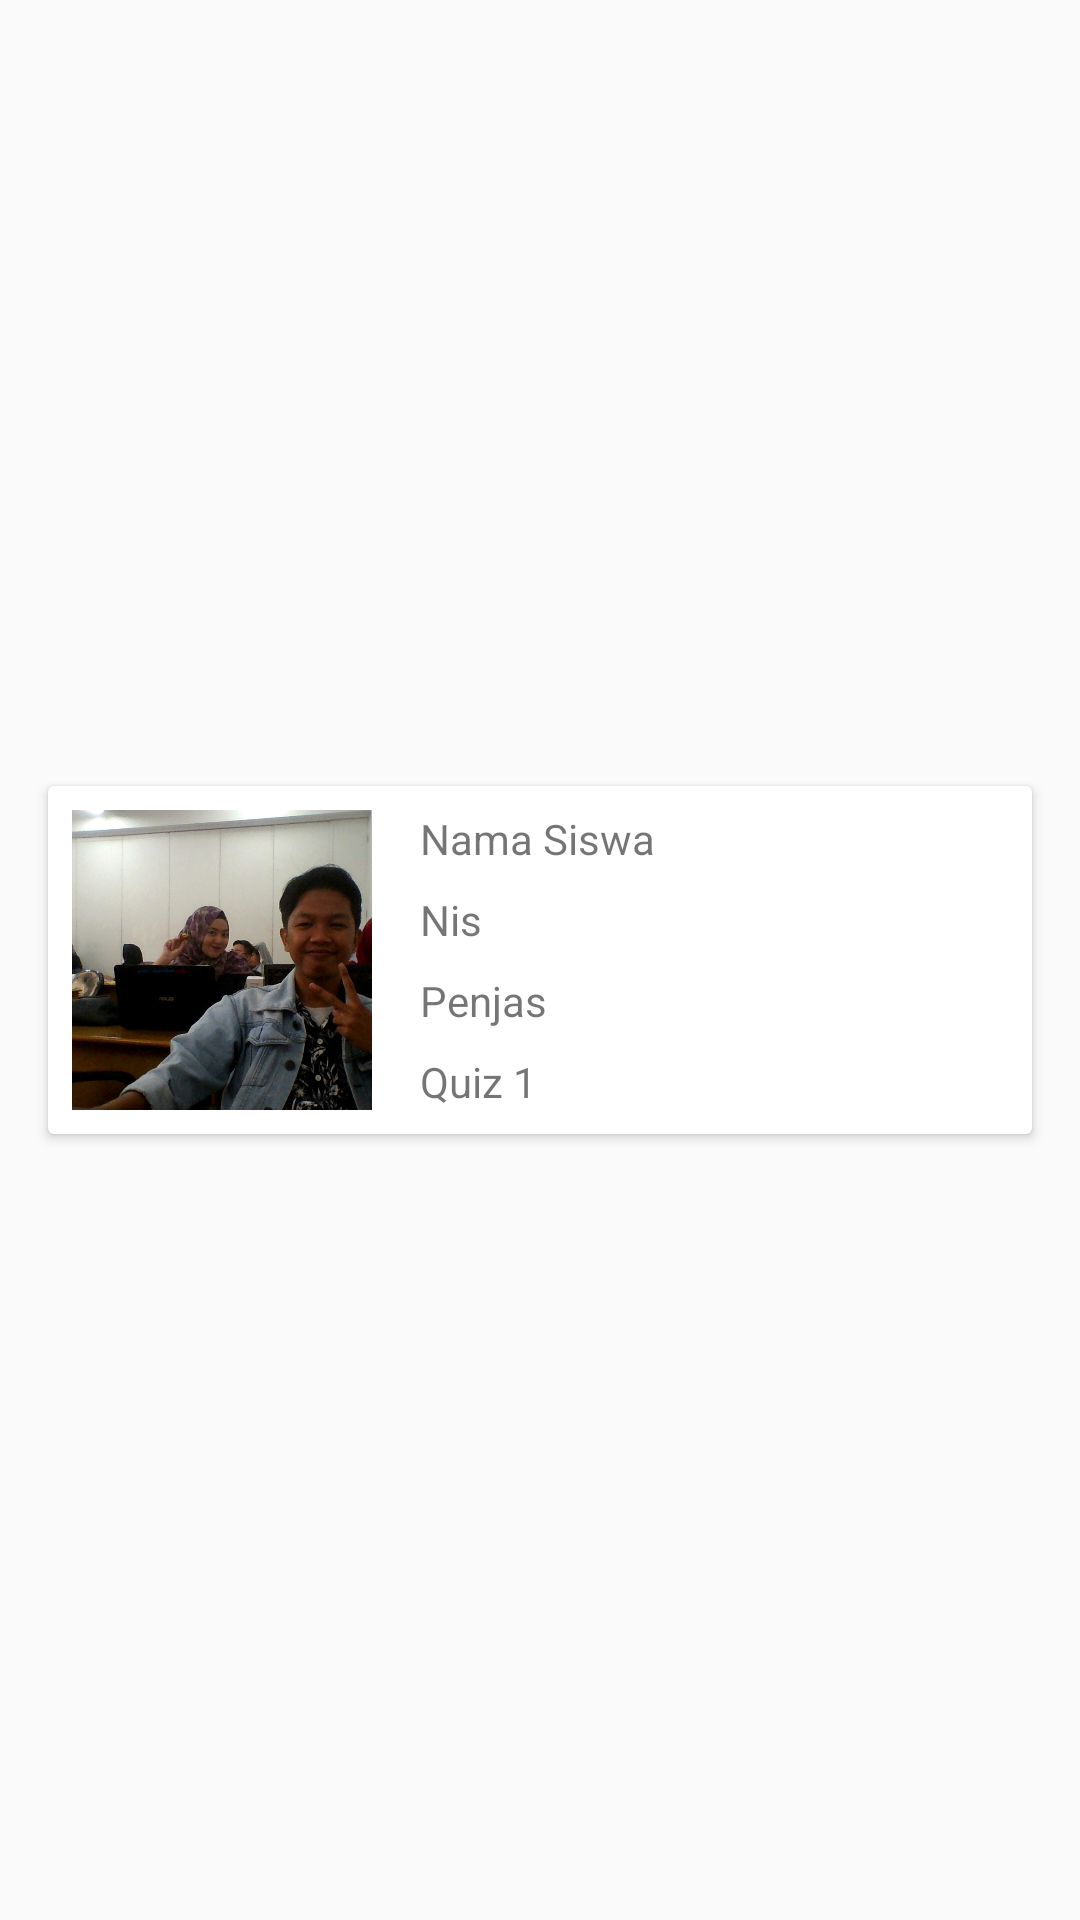

Icon click points for this 1080 × 1920 phone screenshot, format [x,y]:
profil: [222,960]
